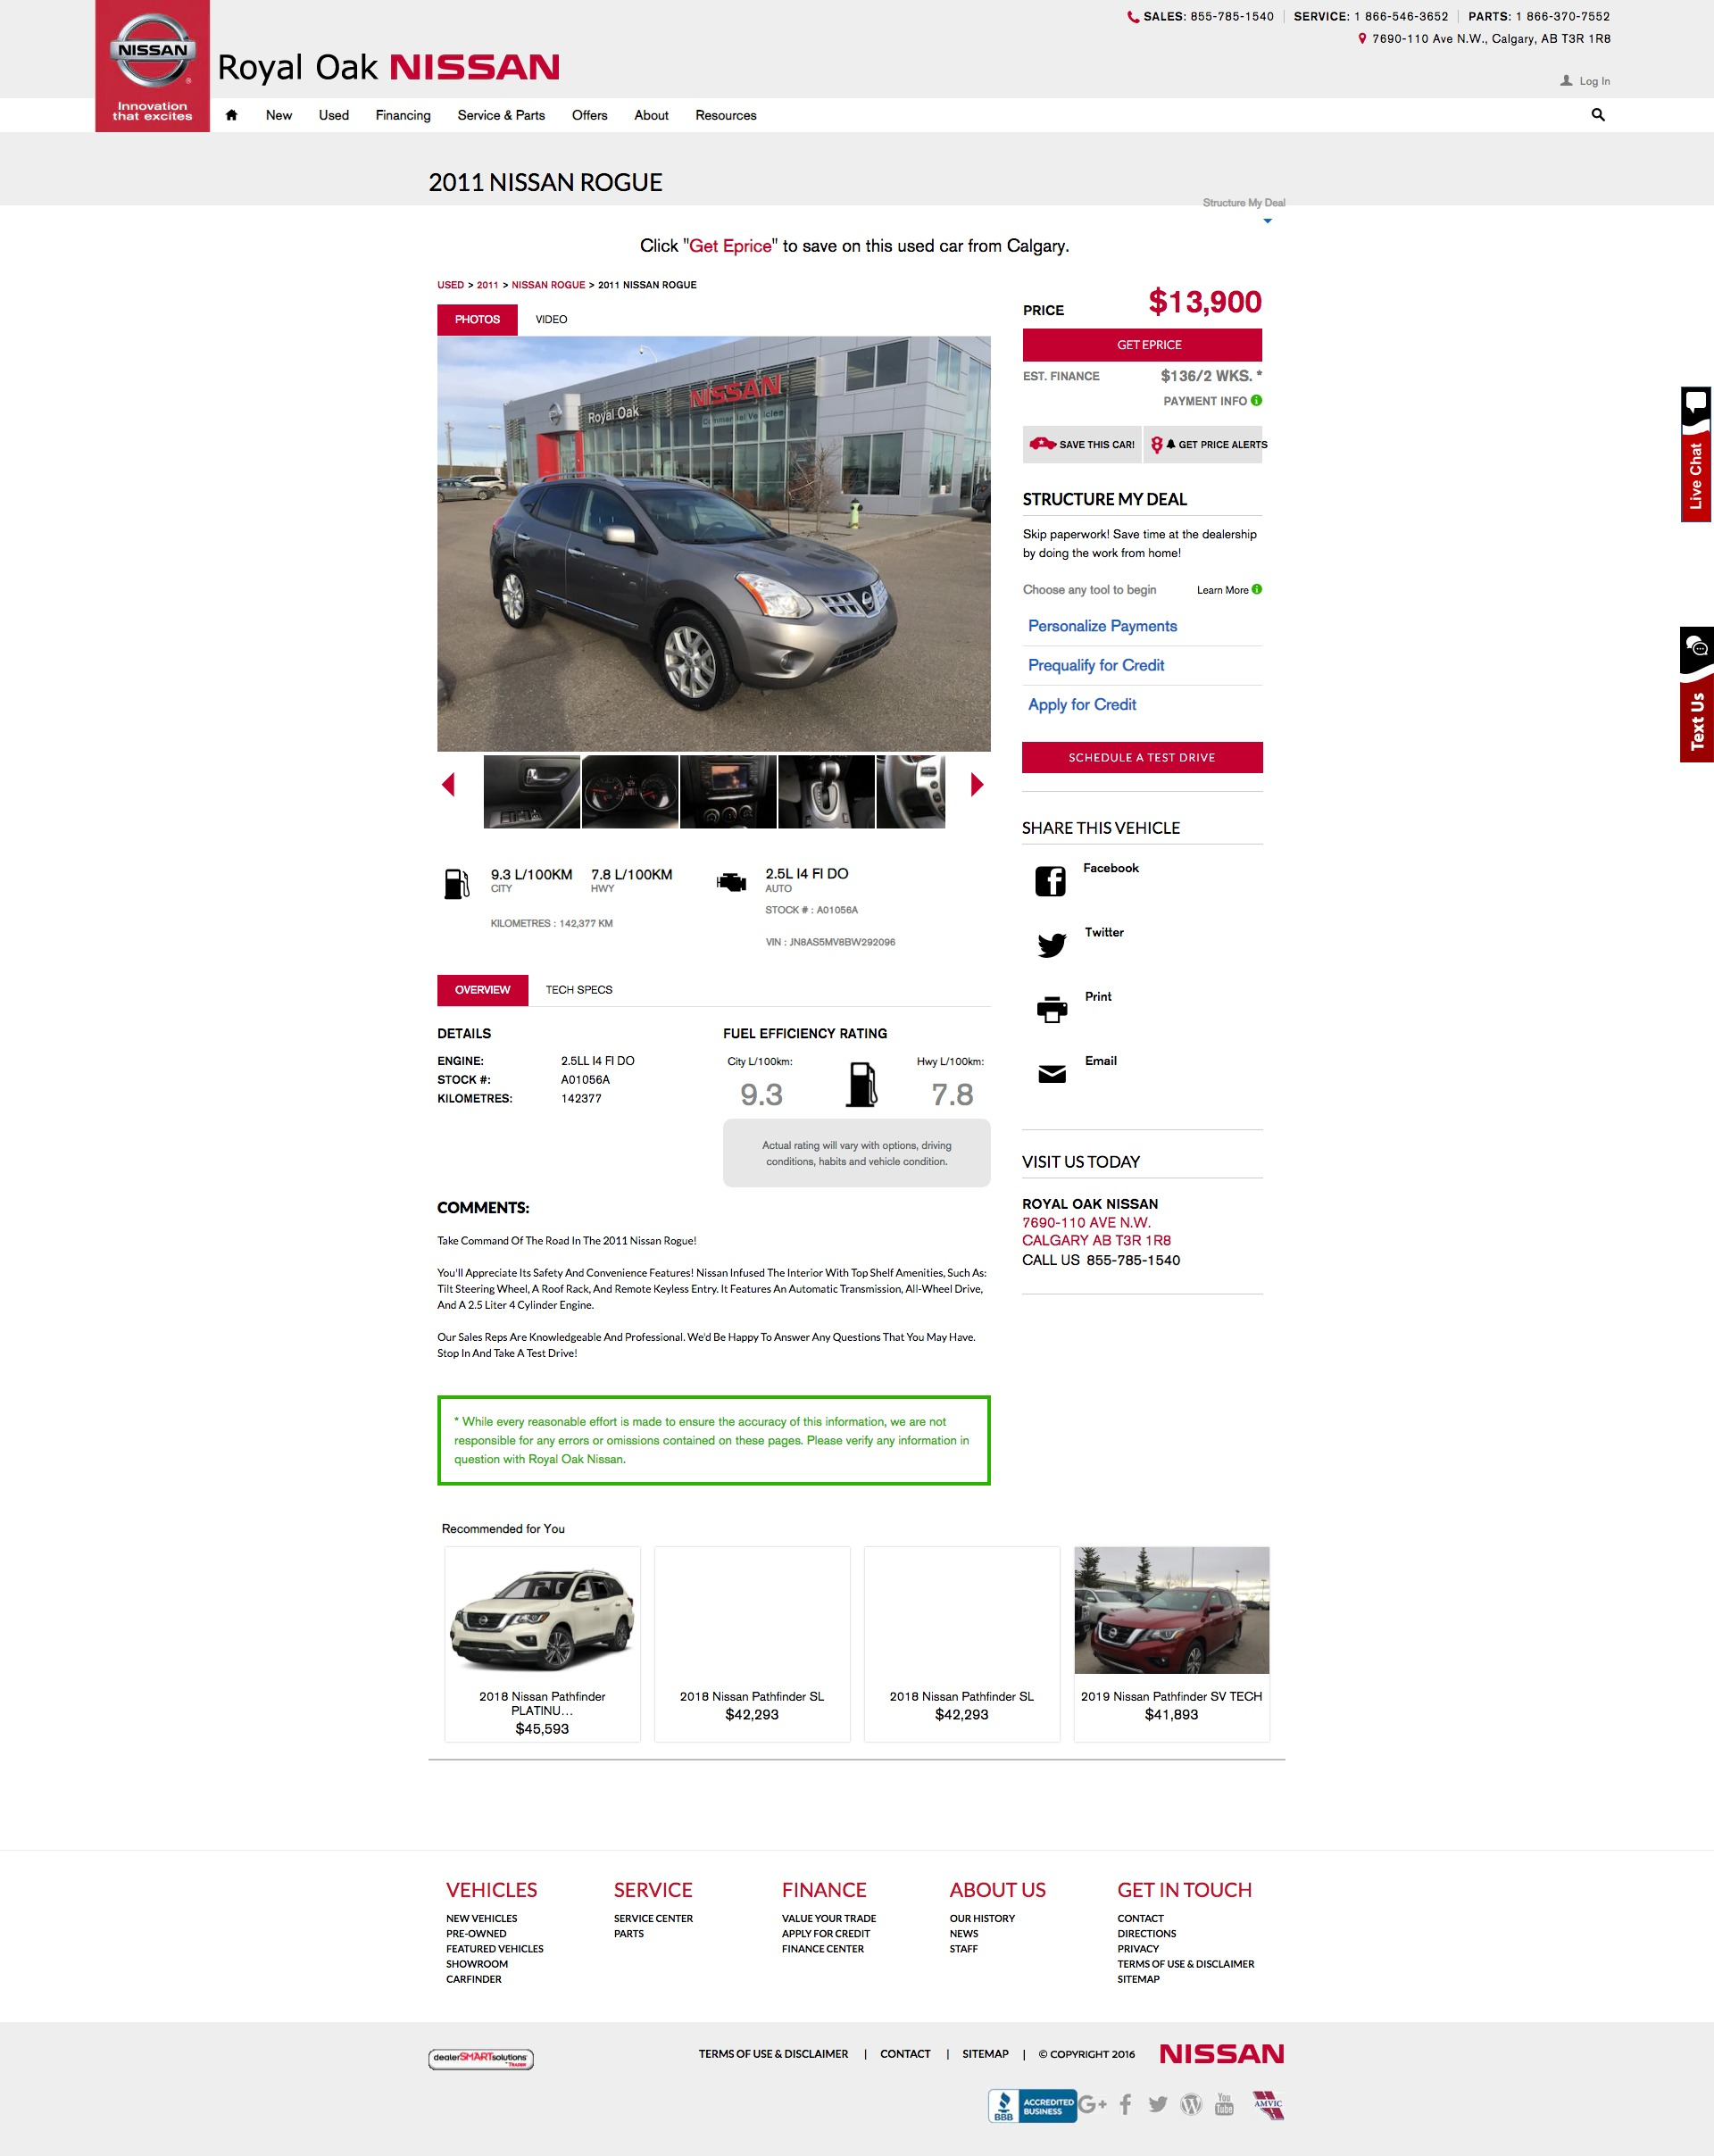car: (972, 772, 984, 798)
